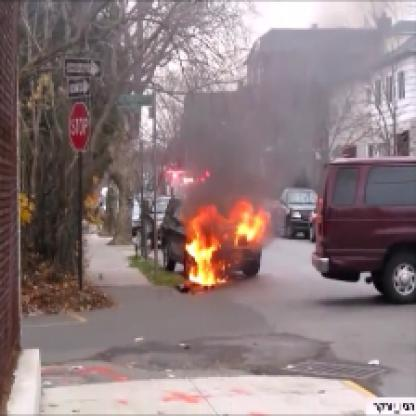Fire: (163, 184, 264, 291)
